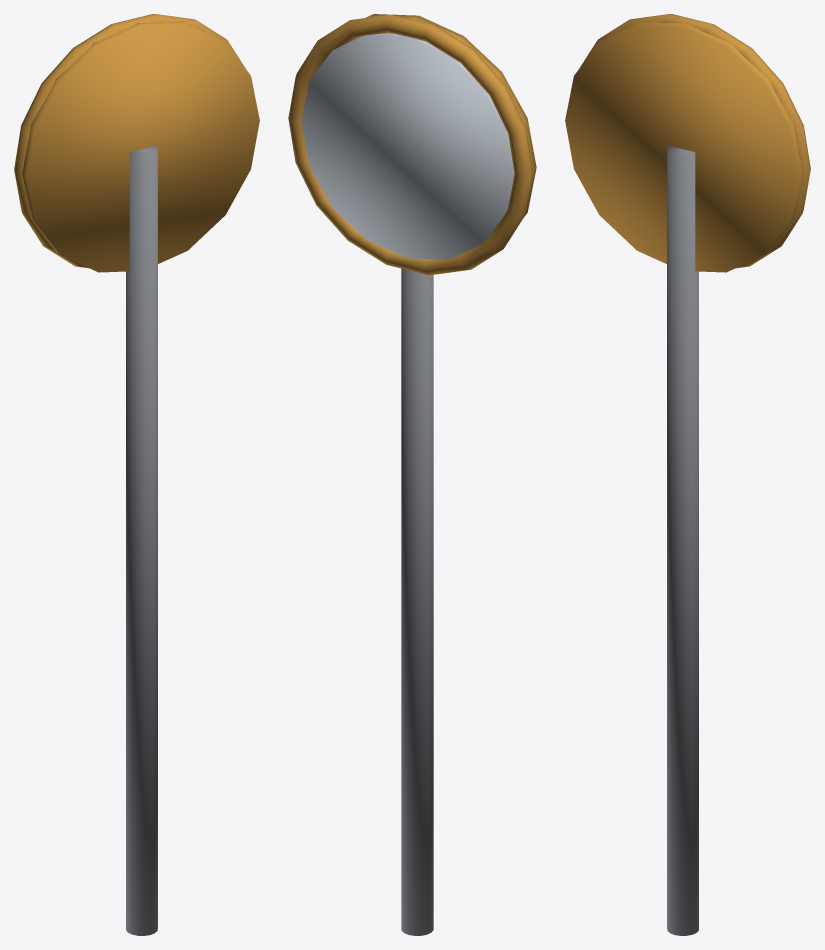
The model's file is prop_curve_mirror.glb.
3 views of the same model, side by side, from view 1: azimuth 30°, elevation 25°; view 2: azimuth 150°, elevation 25°; view 3: azimuth 330°, elevation 25° (orthographic).
Visible parts, largest first — view 1: curve_mirror; view 2: curve_mirror; view 3: curve_mirror.
Part boxes in pixels (bbox=[...]): curve_mirror: bbox=[14, 14, 259, 935]; curve_mirror: bbox=[288, 14, 536, 935]; curve_mirror: bbox=[565, 14, 810, 935].
Bounding box in the file's own units: 1.03 × 3.71 × 0.145.
